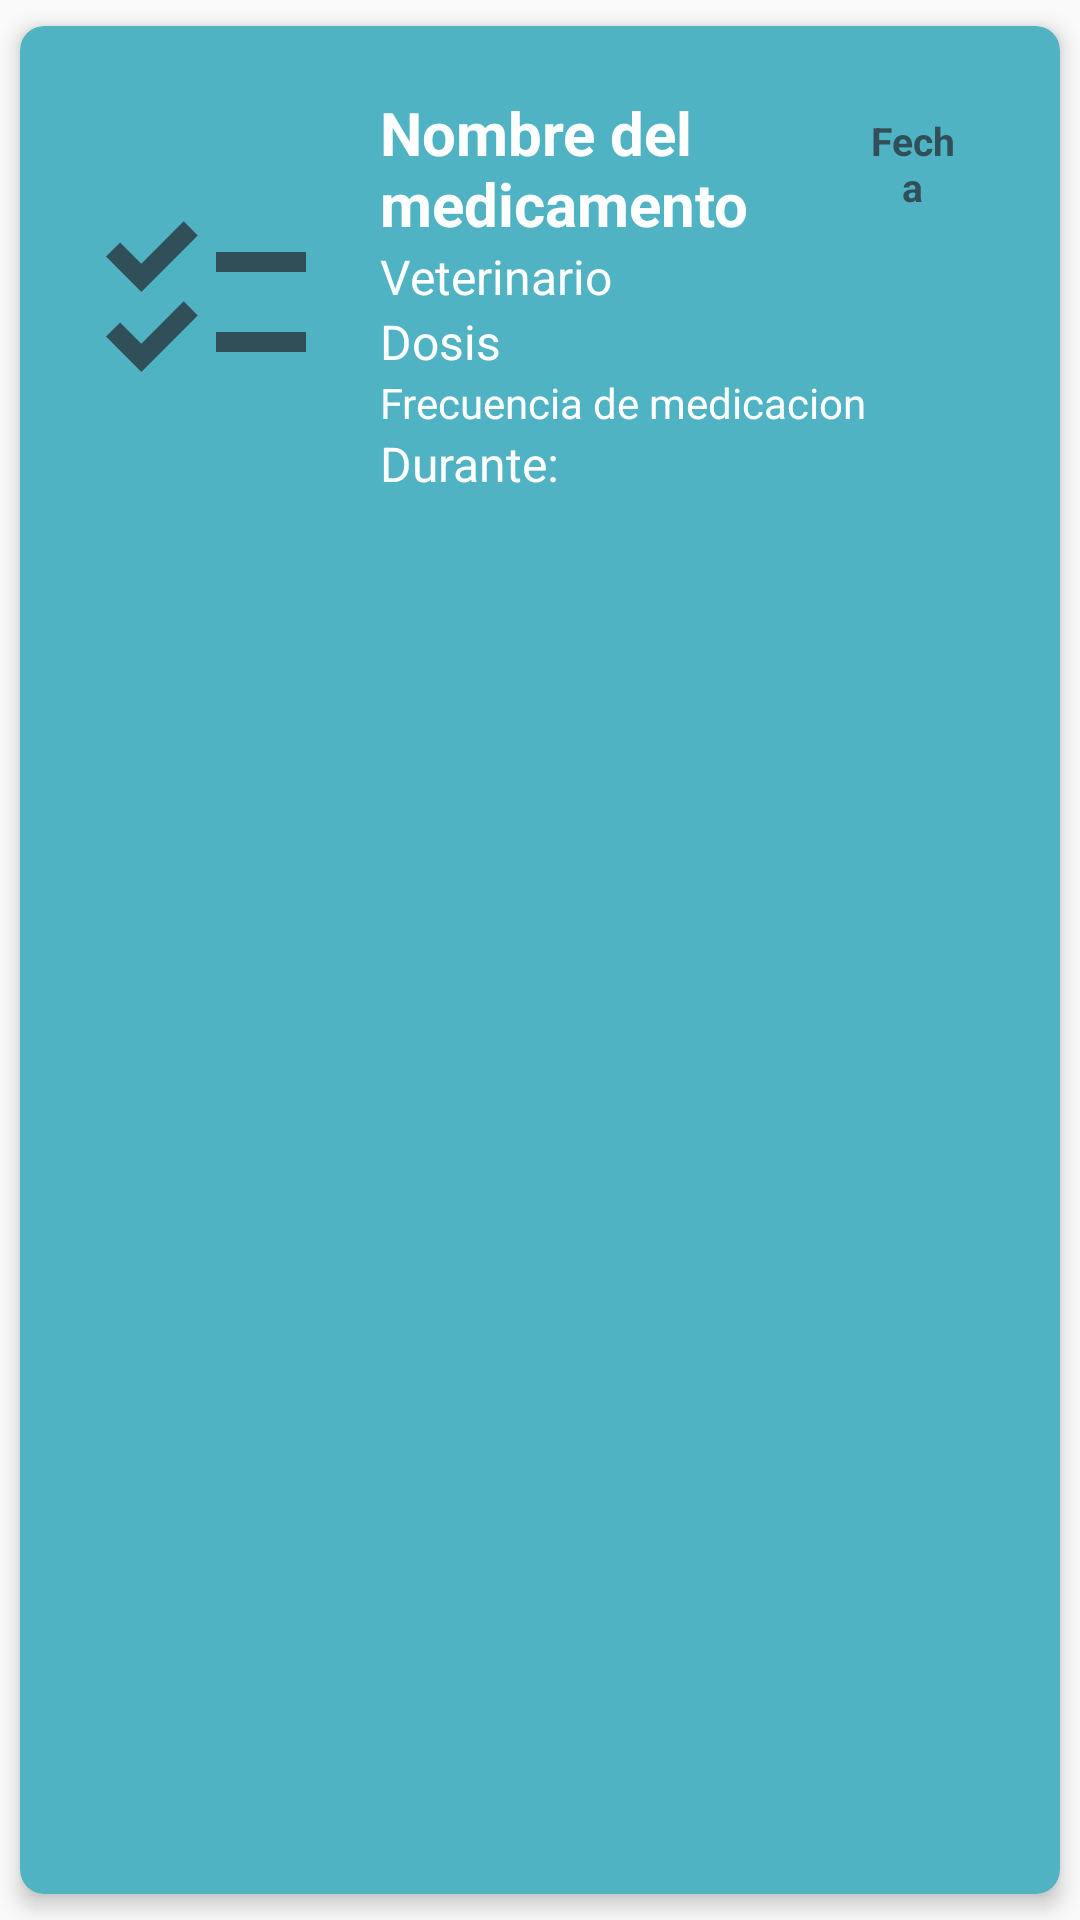

Locate icon controls on the screen. Image size 1080px×1920px, boxes as (x1,y1,x2,y2).
checklist: (106,221,306,372)
